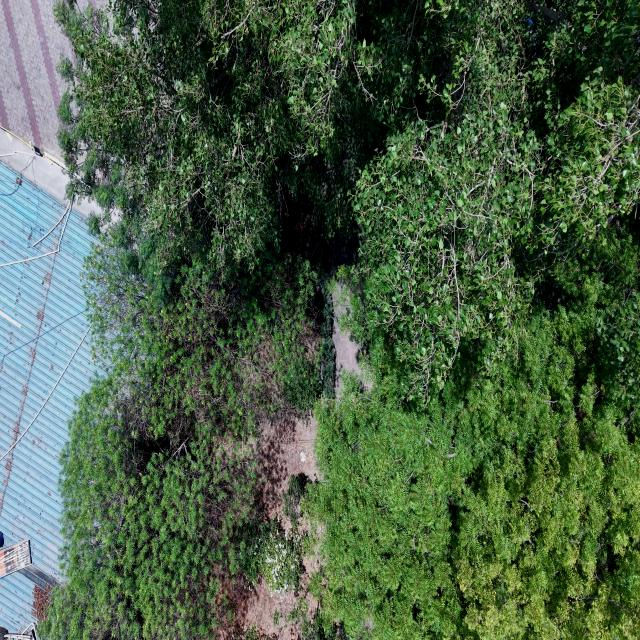DRY_AREA: (0, 0, 73, 201), (0, 0, 73, 159), (0, 0, 72, 159), (217, 555, 317, 639), (217, 558, 316, 639), (235, 559, 316, 639), (256, 414, 316, 518), (238, 559, 316, 639), (236, 579, 298, 639), (331, 281, 359, 396)
ROOFTOP_BUILDING: (0, 164, 99, 632)
VEGETATION_TREE: (45, 0, 639, 639), (307, 3, 639, 639), (351, 2, 639, 402), (307, 304, 639, 639), (44, 243, 318, 639), (240, 520, 302, 594)
